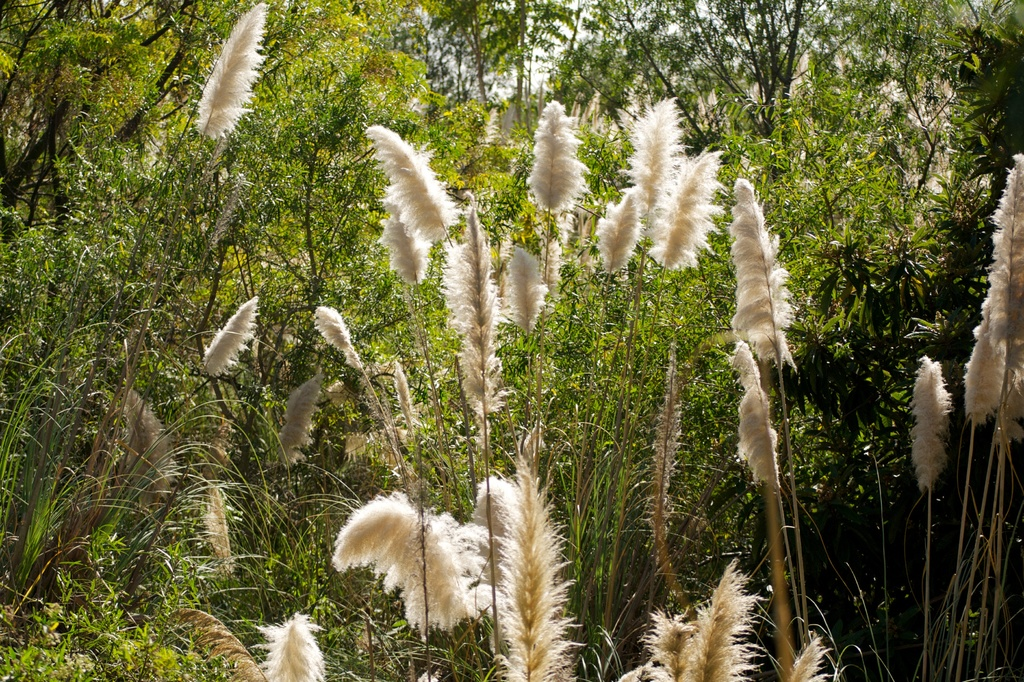Tree: (34, 0, 995, 667)
